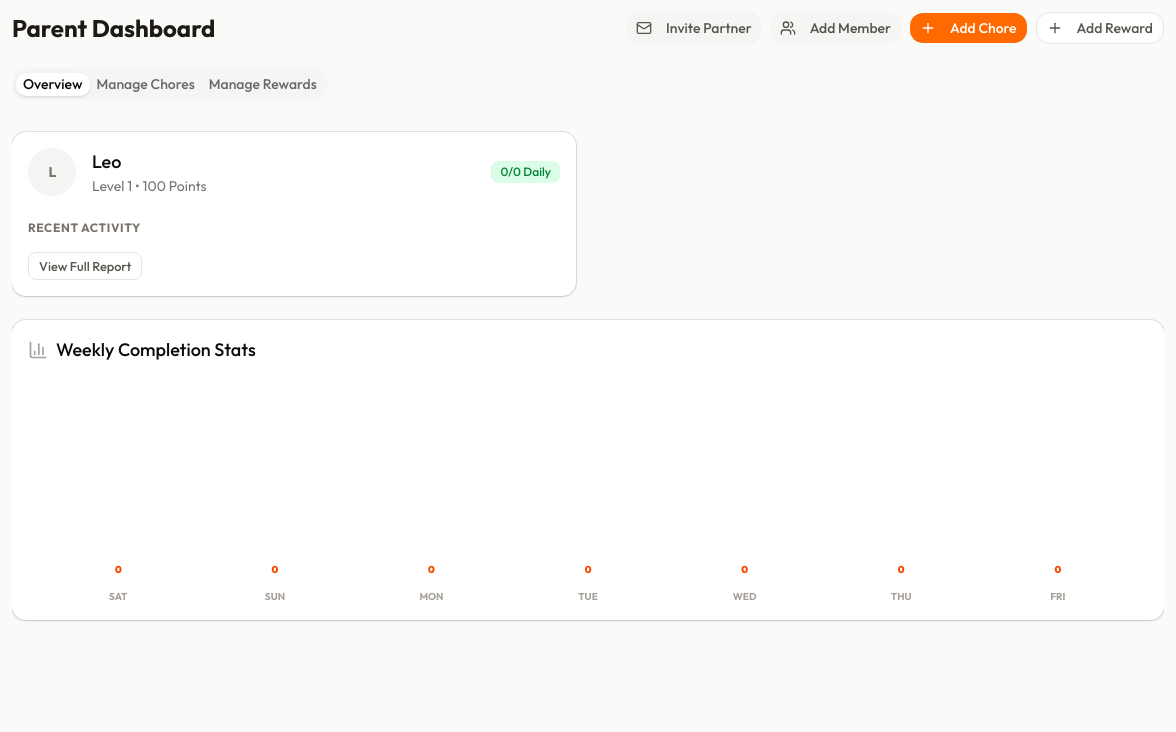
Test: P0 Production Readiness Fixes - Comprehensive Edge Cases › Issue 1 & 5: ParentDashboard Empty States & Restock › shows restock button ONLY for claimed rewards (Edge Case)
Click the tab "Manage Rewards". click: (263,84)
box: top-left (202, 72), bottom-right (324, 96)
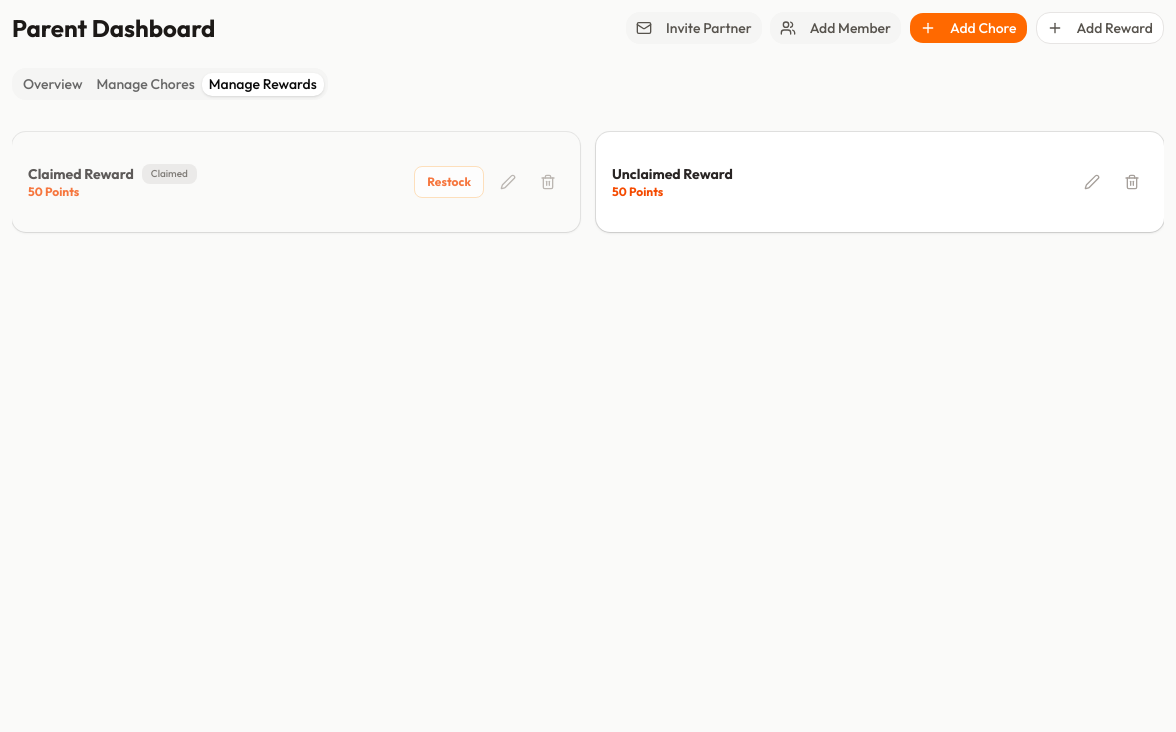
Now the number of buttons "Restock" is 1, box top-left (414, 166), bottom-right (484, 198)
